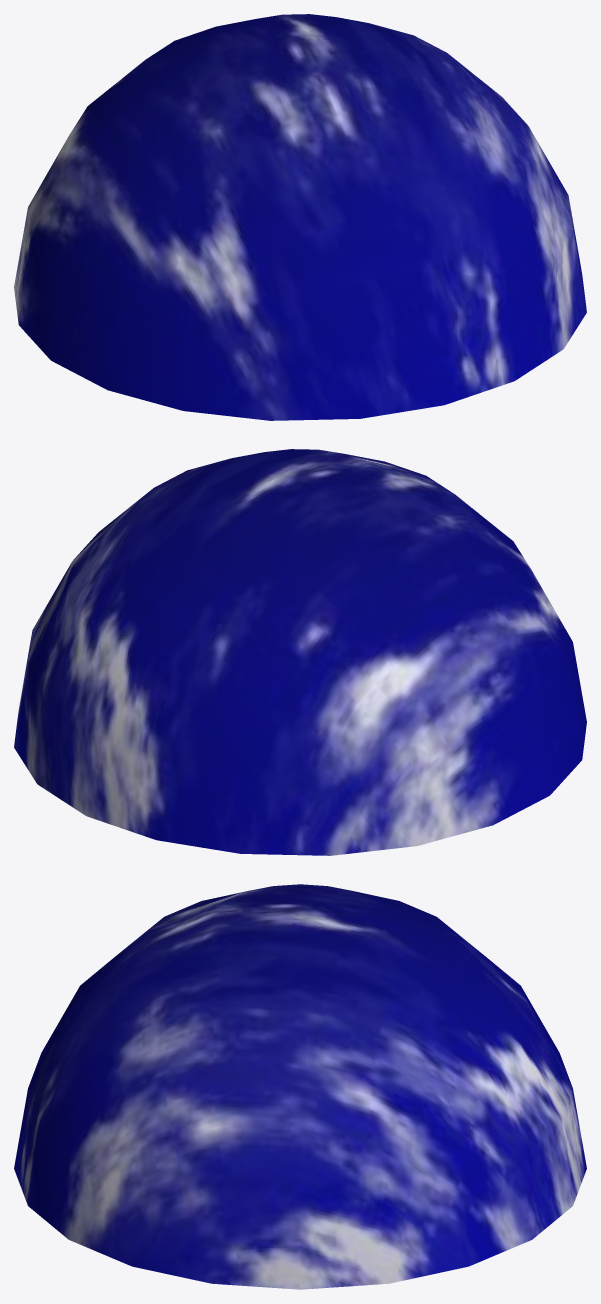
The model's file is map_2.obj.
3 views of the same model, one above another, from view 1: azimuth 30°, elevation 25°; view 2: azimuth 150°, elevation 25°; view 3: azimuth 270°, elevation 25° (orthographic).
Visible parts, largest first — view 1: Object003; view 2: Object003; view 3: Object003.
Boxes of the visible parts, box(x1,y1,x2,y2) form: Object003: box(14, 14, 586, 420); Object003: box(14, 449, 586, 855); Object003: box(14, 884, 586, 1289).
Bounding box in the file's own units: 2031 × 1015 × 2031.
Materials: 12 (9 with a texture image).
